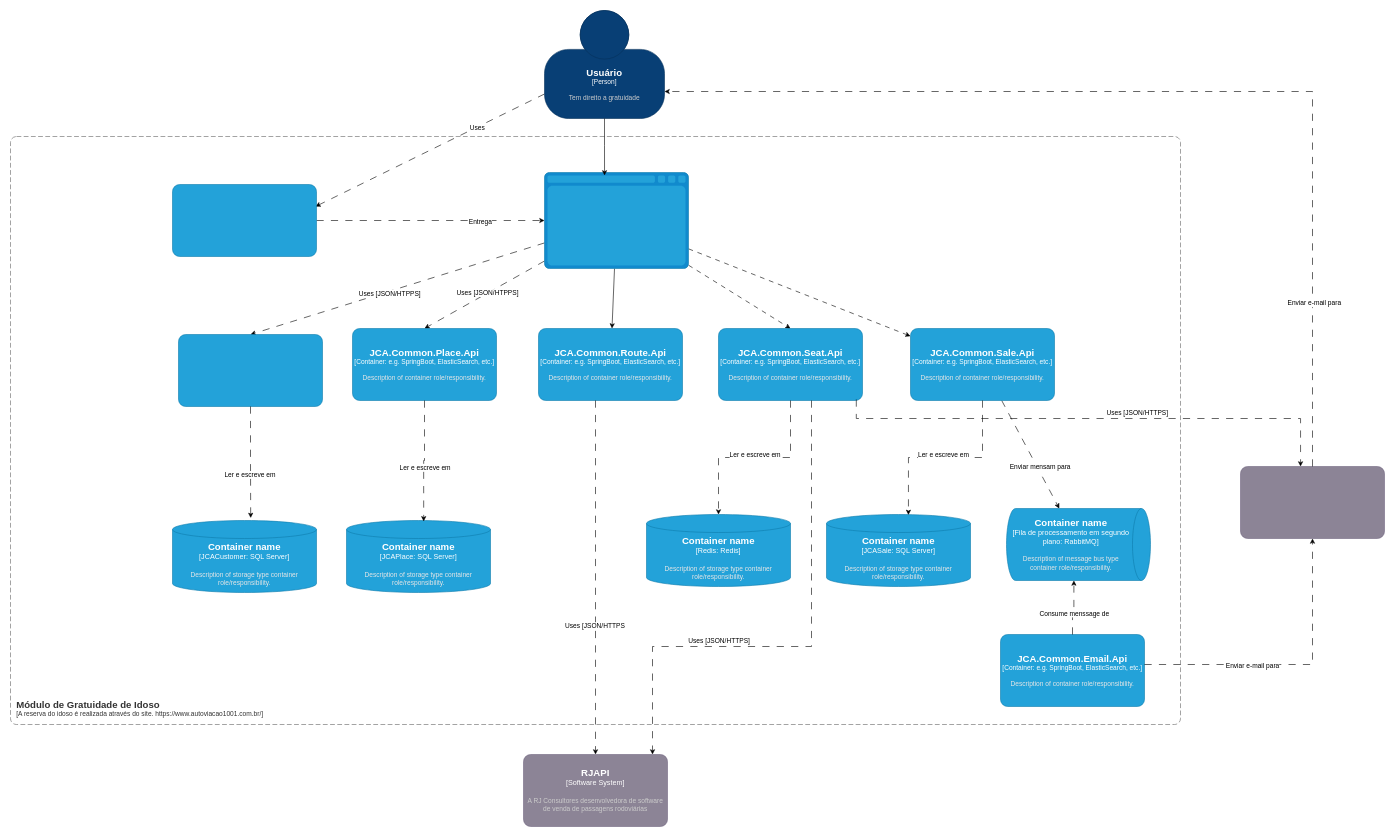
This 1395x837 diagram has some shape labels left out. The box of each missing label's shape, as (x1, y1, x2, y2) in pixels:
Autoviacao1001 [Container: NGINX] Gratuidade-Idoso: (544, 172, 688, 268)
External system name [Software System] Description of external software system.: (1240, 466, 1384, 538)
JCA.Common.Customer.Api [Container: .NetCore e C#] Api responsável: (178, 334, 322, 406)
WebApplication [Container: WEB] Browser: (172, 184, 316, 256)
